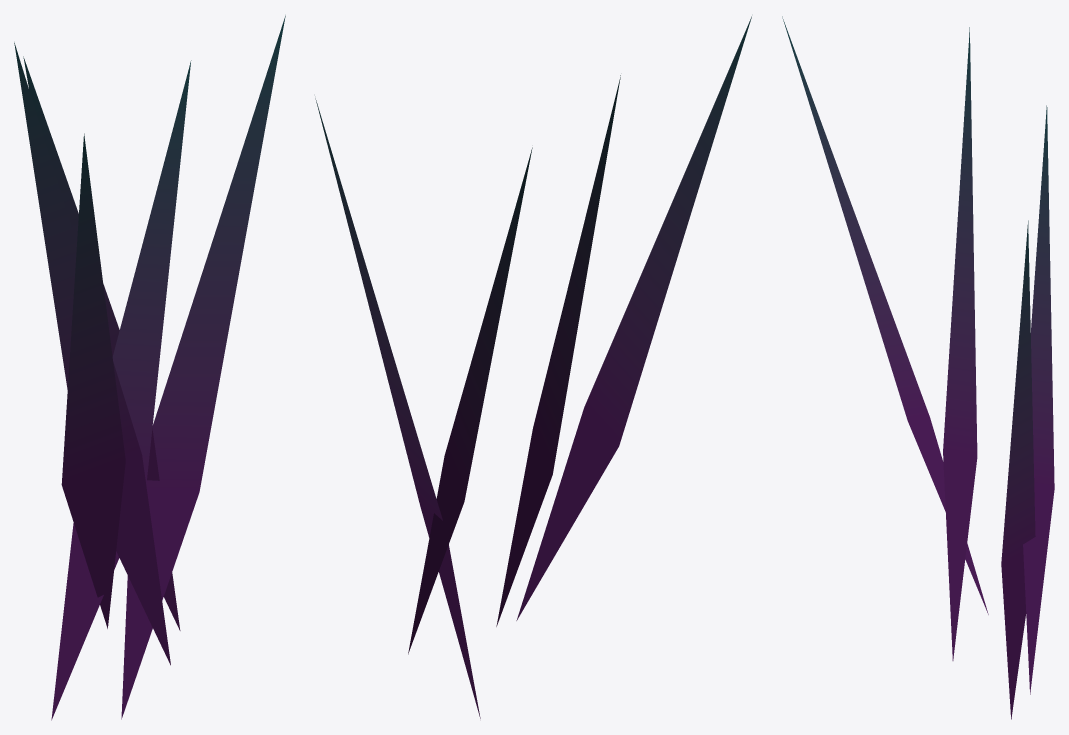
The model's file is Green-to-blue-grass.fbx.
3 renders of one model, left to right at view 1: azimuth 30°, elevation 25°; view 2: azimuth 150°, elevation 25°; view 3: azimuth 270°, elevation 25°, orthographic. The views are drawn at different scales.
Visible parts, largest first — view 1: pCube1, pasted__pCube1 (×2), pasted__pasted__pasted__pCube1, pasted__pasted__pCube1; view 2: pasted__pCube1 (×2), pasted__pasted__pCube1, pCube1; view 3: pasted__pCube1 (×2), pasted__pasted__pCube1, pCube1.
Part boxes in pixels (x1,y1,x2,y2): pCube1: [121, 15, 285, 719]; pasted__pCube1 (×2): [23, 56, 180, 630]; pasted__pasted__pasted__pCube1: [51, 60, 191, 720]; pasted__pasted__pCube1: [14, 42, 170, 665]; pasted__pCube1 (×2): [408, 16, 751, 654]; pasted__pasted__pCube1: [496, 75, 620, 626]; pCube1: [315, 98, 480, 718]; pasted__pCube1 (×2): [782, 16, 1054, 694]; pasted__pasted__pCube1: [943, 27, 977, 660]; pCube1: [1001, 220, 1035, 719].
Size of the model in its own units: 0.9441 by 1.92 by 0.7438.
